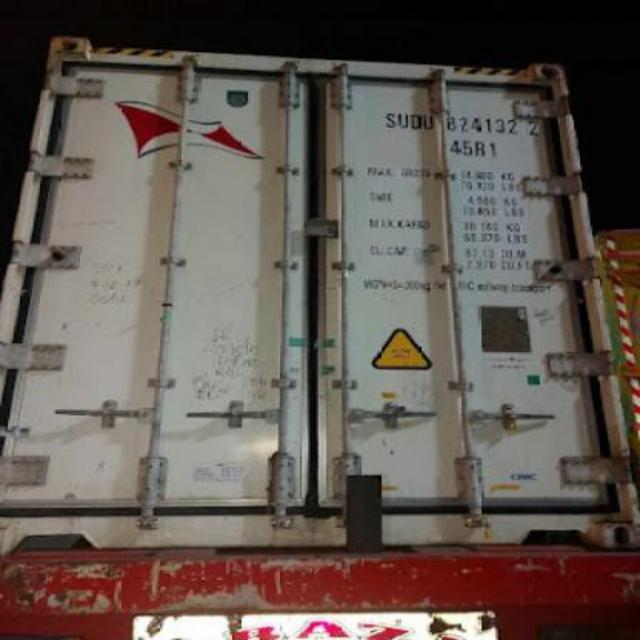1: (484, 117, 496, 133)
2: (458, 114, 470, 134), (506, 119, 520, 135), (530, 120, 538, 136)
3: (494, 120, 506, 132)
4: (470, 118, 482, 132)
8: (448, 118, 456, 130)
D: (412, 114, 420, 130)
S: (386, 113, 396, 129)
U: (398, 113, 410, 131), (422, 114, 434, 130)
